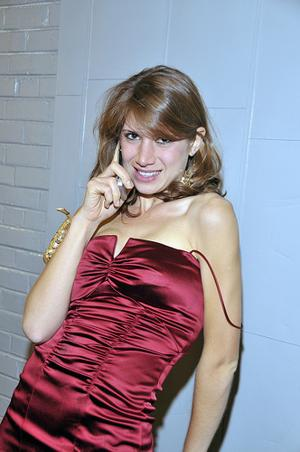person: (5, 63, 246, 452)
